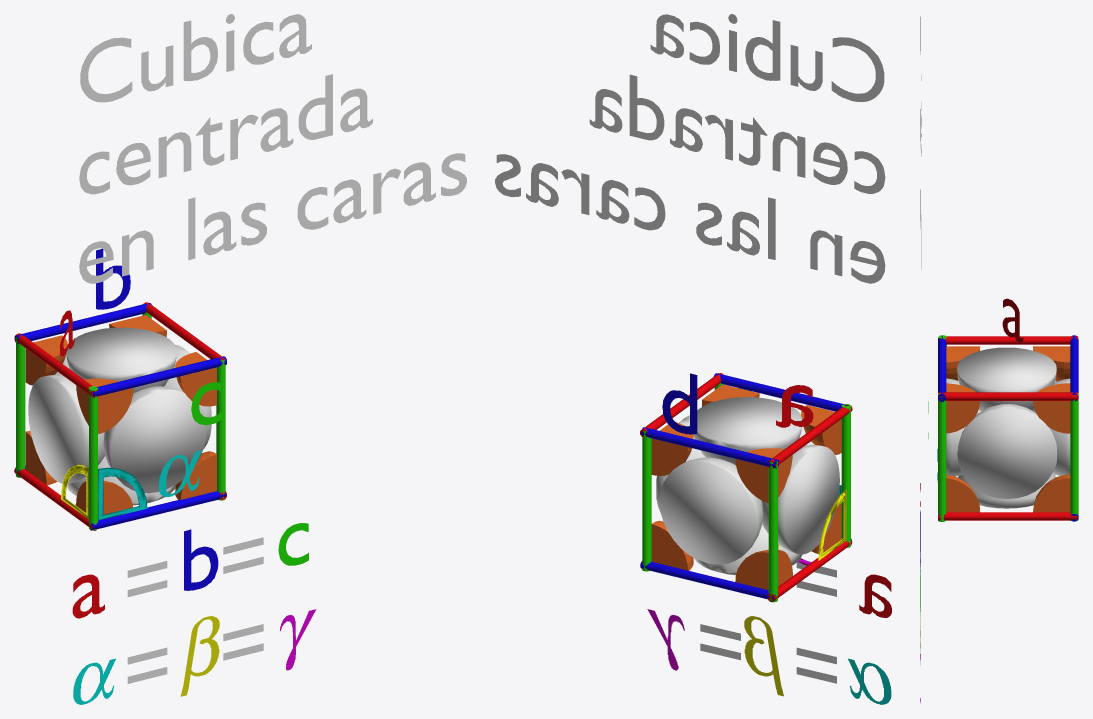
Rendered from cubica centrada en las caras.glb.
3 views of the same model, side by side, from view 1: azimuth 30°, elevation 25°; view 2: azimuth 150°, elevation 25°; view 3: azimuth 270°, elevation 25° (orthographic). The views are drawn at different scales.
Parts seen in each view (by area): view 1: Text.186_Text.001, Sphere.416_Sphere.001, Sphere.414_Sphere.001, Sphere.418_Sphere.001, Sphere.403_Sphere.001, Cylinder.545_Cylinder.001, Cylinder.552_Cylinder.001, Sphere.405_Sphere.001, Cylinder.551_Cylinder.001, Cylinder.544_Cylinder.001, Cylinder.554_Cylinder.001, Sphere.404_Sphere.001 (+15 smaller); view 2: Text.186_Text.001, Sphere.415_Sphere.001, Sphere.414_Sphere.001, Sphere.418_Sphere.001, Sphere.407_Sphere.001, Sphere.406_Sphere.001, Cylinder.552_Cylinder.001, Cylinder.549_Cylinder.001, Cylinder.551_Cylinder.001, Sphere.409_Sphere.001, Sphere.408_Sphere.001, Cylinder.550_Cylinder.001 (+15 smaller); view 3: Sphere.413_Sphere.001, Sphere.418_Sphere.001, Sphere.409_Sphere.001, Cylinder.548_Cylinder.001, Cylinder.547_Cylinder.001, Sphere.408_Sphere.001, Cylinder.555_Cylinder.001, Sphere.405_Sphere.001, Cylinder.546_Cylinder.001, Cylinder.549_Cylinder.001, Sphere.404_Sphere.001, Sphere.417_Sphere.001 (+7 smaller).
Boxes of the visible parts, x1,y1,x2,y2 form: Text.186_Text.001: (79,14,466,283); Sphere.416_Sphere.001: (103,386,206,493); Sphere.414_Sphere.001: (28,375,104,484); Sphere.418_Sphere.001: (66,327,176,393); Sphere.403_Sphere.001: (76,378,133,434); Cylinder.545_Cylinder.001: (91,356,226,397); Cylinder.552_Cylinder.001: (16,337,25,477); Sphere.405_Sphere.001: (175,352,216,406); Cylinder.551_Cylinder.001: (14,303,151,344); Cylinder.544_Cylinder.001: (90,491,226,530); Cylinder.554_Cylinder.001: (89,386,97,530); Sphere.404_Sphere.001: (175,451,216,499); Text.186_Text.001: (495,14,885,283); Sphere.415_Sphere.001: (660,457,763,564); Sphere.414_Sphere.001: (762,445,839,554); Sphere.418_Sphere.001: (693,397,802,465); Sphere.407_Sphere.001: (735,448,792,502); Sphere.406_Sphere.001: (735,550,792,590); Cylinder.552_Cylinder.001: (768,461,777,602); Cylinder.549_Cylinder.001: (642,430,651,571); Cylinder.551_Cylinder.001: (641,427,779,468); Sphere.409_Sphere.001: (651,422,693,475); Sphere.408_Sphere.001: (651,520,693,570); Cylinder.550_Cylinder.001: (640,561,778,600); Sphere.413_Sphere.001: (957,404,1057,499); Sphere.418_Sphere.001: (957,347,1056,411); Sphere.409_Sphere.001: (1033,383,1070,433); Cylinder.548_Cylinder.001: (938,392,1077,400); Cylinder.547_Cylinder.001: (938,512,1077,520); Sphere.408_Sphere.001: (1033,474,1070,512); Cylinder.555_Cylinder.001: (938,336,1077,344); Sphere.405_Sphere.001: (946,383,979,433); Cylinder.546_Cylinder.001: (938,393,946,521); Cylinder.549_Cylinder.001: (1070,393,1078,521); Sphere.404_Sphere.001: (946,474,979,512); Sphere.417_Sphere.001: (958,473,1055,508).
Size of the model in its own units: 1.58 by 2.58 by 0.608.
